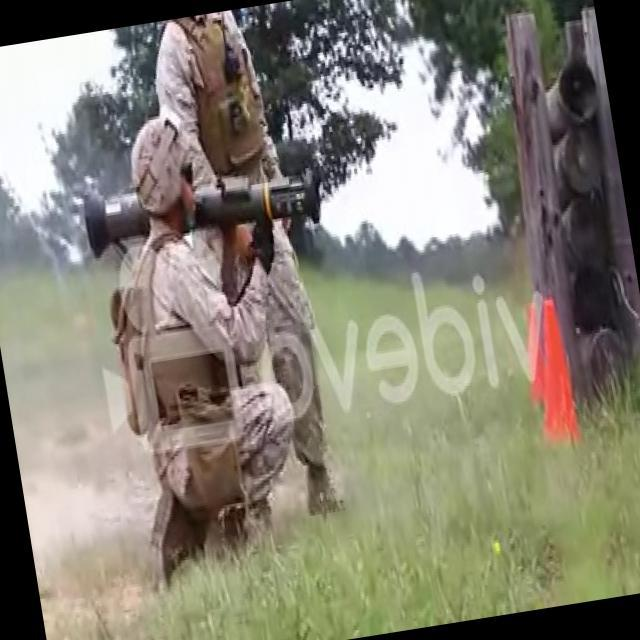rocket: (83, 162, 325, 262)
